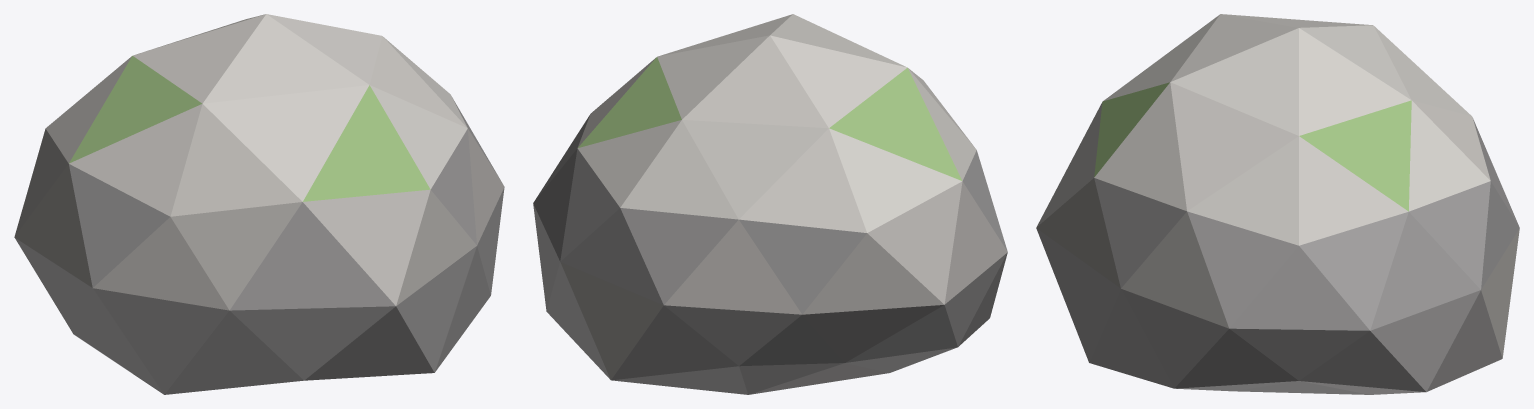
Rendered from RockSmall.glb.
3 views of the same model, side by side, from view 1: azimuth 30°, elevation 25°; view 2: azimuth 150°, elevation 25°; view 3: azimuth 270°, elevation 25° (orthographic). The views are drawn at different scales.
Visible parts, largest first — view 1: RockSmall_Rock; view 2: RockSmall_Rock; view 3: RockSmall_Rock.
Boxes of the visible parts, x1,y1,x2,y2 form: RockSmall_Rock: [14, 14, 504, 394]; RockSmall_Rock: [533, 14, 1007, 394]; RockSmall_Rock: [1036, 14, 1519, 394].
Bounding box in the file's own units: 1.05 × 0.7494 × 1.02.
